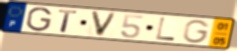5: (119, 14, 144, 39)
G: (182, 19, 212, 45), (25, 7, 54, 33)
L: (154, 17, 177, 42)
T: (56, 9, 79, 34)
V: (90, 10, 119, 38)
